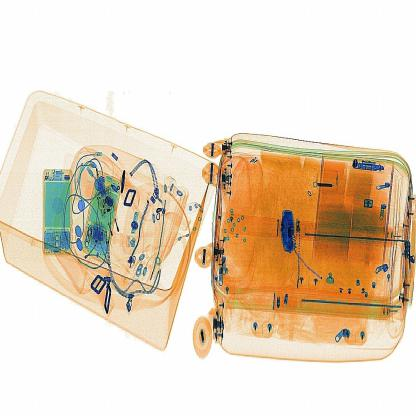scissors: (274, 202, 306, 257)
